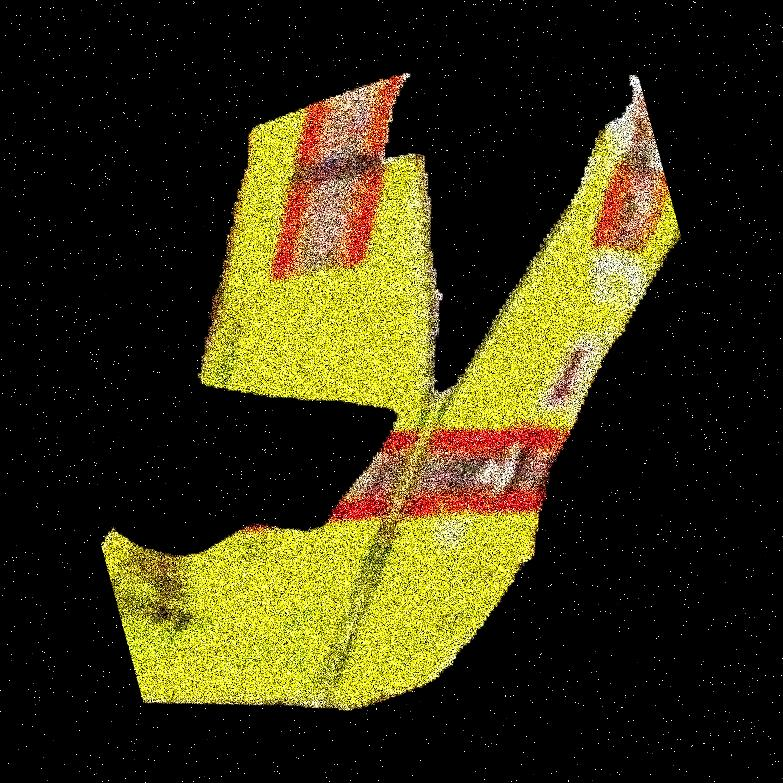Colete: (325, 0, 515, 782)
